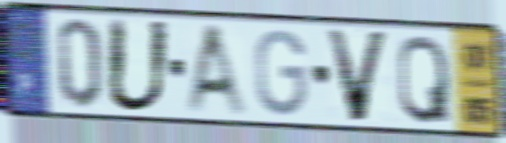0: (54, 14, 106, 113)
A: (182, 21, 253, 121)
G: (253, 26, 309, 120)
Q: (396, 31, 453, 127)
U: (103, 14, 174, 116)
V: (322, 25, 393, 126)
